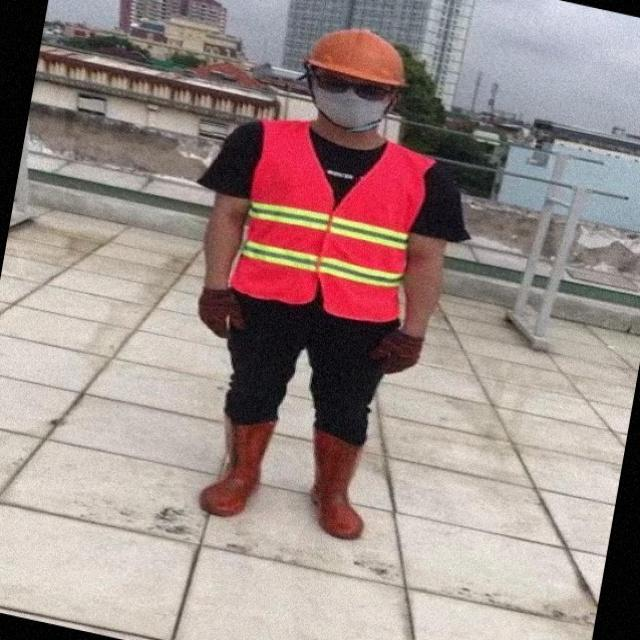helmet: (272, 27, 480, 96)
safety_vest: (232, 103, 466, 340)
